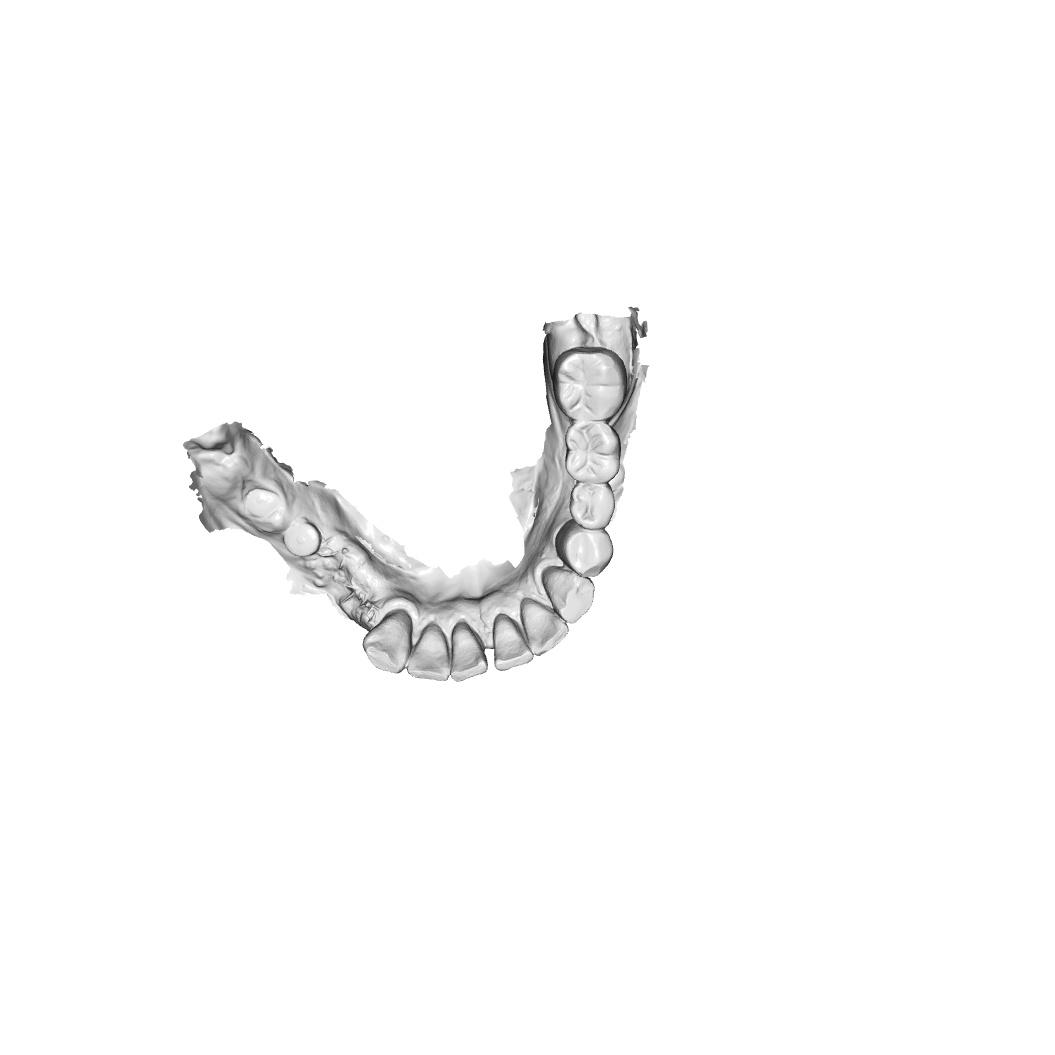canine: (361, 608, 414, 675), (541, 565, 596, 625)
incisor: (519, 597, 570, 657), (406, 624, 451, 682), (491, 613, 534, 673), (449, 621, 489, 683)
molar: (552, 347, 629, 421), (563, 421, 622, 484)
premolar: (555, 520, 615, 579), (567, 480, 617, 531)
